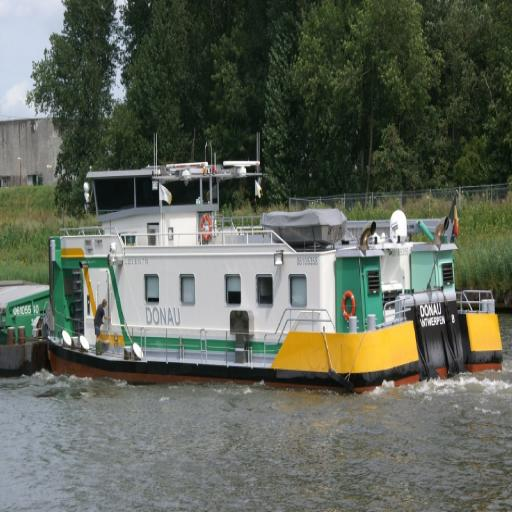tugboat: (43, 131, 507, 401)
